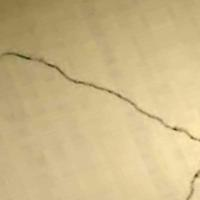crack: (5, 44, 199, 193)
